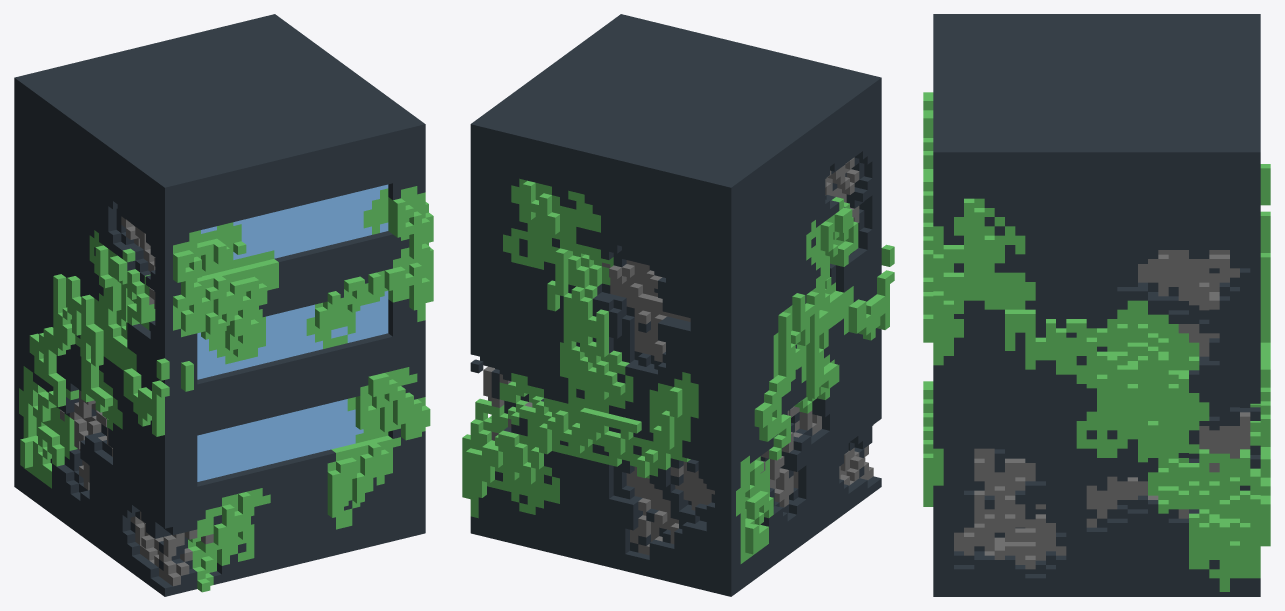
The model's file is billding6.obj.
The picture shows the model from 3 angles, left to right: view 1: azimuth 30°, elevation 25°; view 2: azimuth 150°, elevation 25°; view 3: azimuth 270°, elevation 25°; orthographic projection. The views are drawn at different scales.
Bounding box in the file's own units: 3.4 × 4.8 × 3.4.
1 material, 1 textured.
